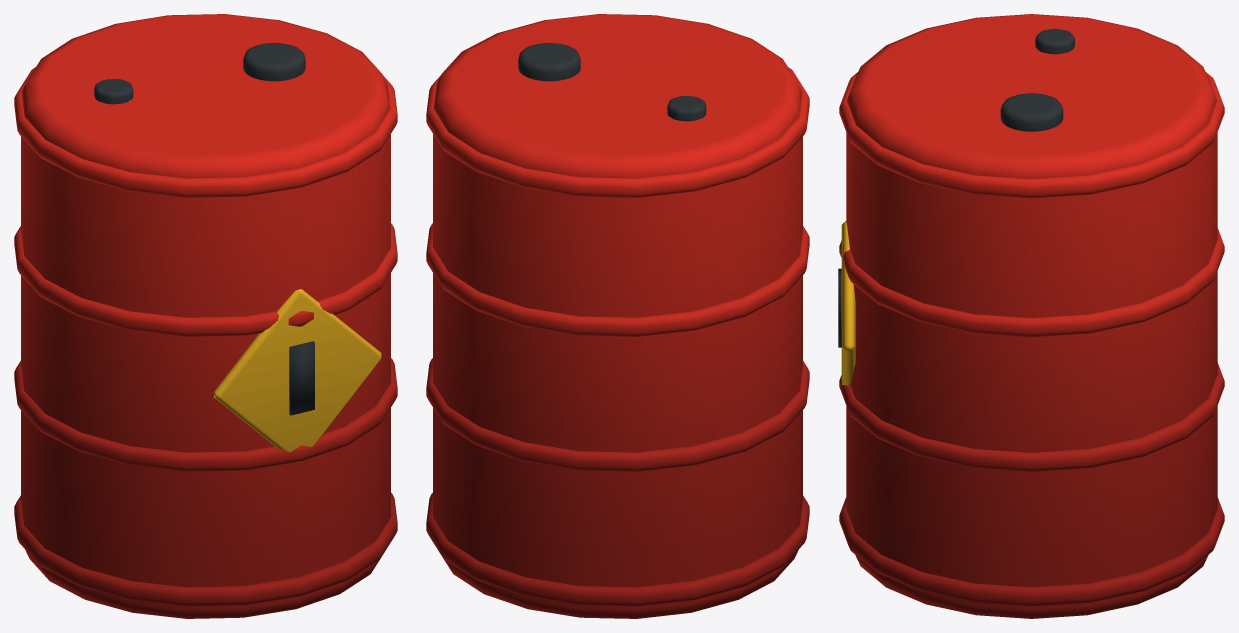
File: fuelDrum.glb
3 views of the same model, side by side, from view 1: azimuth 30°, elevation 25°; view 2: azimuth 150°, elevation 25°; view 3: azimuth 270°, elevation 25° (orthographic).
Visible parts, largest first — view 1: Fuel drum, Warning diamond, Drum rib.003, Drum rib, Drum rib.001, Drum rib.002, Filler cap, Hazard mark, Vent cap; view 2: Fuel drum, Drum rib.003, Drum rib.002, Drum rib.001, Drum rib, Filler cap, Vent cap; view 3: Fuel drum, Drum rib.003, Drum rib, Drum rib.001, Drum rib.002, Filler cap, Warning diamond, Vent cap.
Boxes of the visible parts, box(x1,y1,x2,y2) form: Fuel drum: box(21, 14, 390, 618); Warning diamond: box(214, 289, 381, 462); Drum rib.003: box(14, 67, 397, 197); Drum rib: box(14, 493, 397, 606); Drum rib.001: box(14, 358, 397, 471); Drum rib.002: box(14, 223, 397, 336); Filler cap: box(243, 43, 305, 81); Hazard mark: box(289, 341, 314, 415); Vent cap: box(94, 79, 133, 104); Fuel drum: box(433, 14, 802, 618); Drum rib.003: box(426, 67, 809, 197); Drum rib.002: box(426, 223, 809, 336); Drum rib.001: box(426, 358, 809, 471); Drum rib: box(426, 493, 809, 606); Filler cap: box(518, 43, 580, 81); Vent cap: box(667, 96, 706, 121); Fuel drum: box(846, 14, 1217, 618); Drum rib.003: box(839, 72, 1224, 198); Drum rib: box(839, 497, 1224, 606); Drum rib.001: box(839, 363, 1224, 471); Drum rib.002: box(839, 228, 1224, 337); Filler cap: box(1000, 93, 1063, 131); Warning diamond: box(841, 221, 855, 385); Vent cap: box(1035, 28, 1074, 54).
Bounding box in the file's own units: 0.83 × 1.14 × 0.832.
3 materials, 3 textured.
